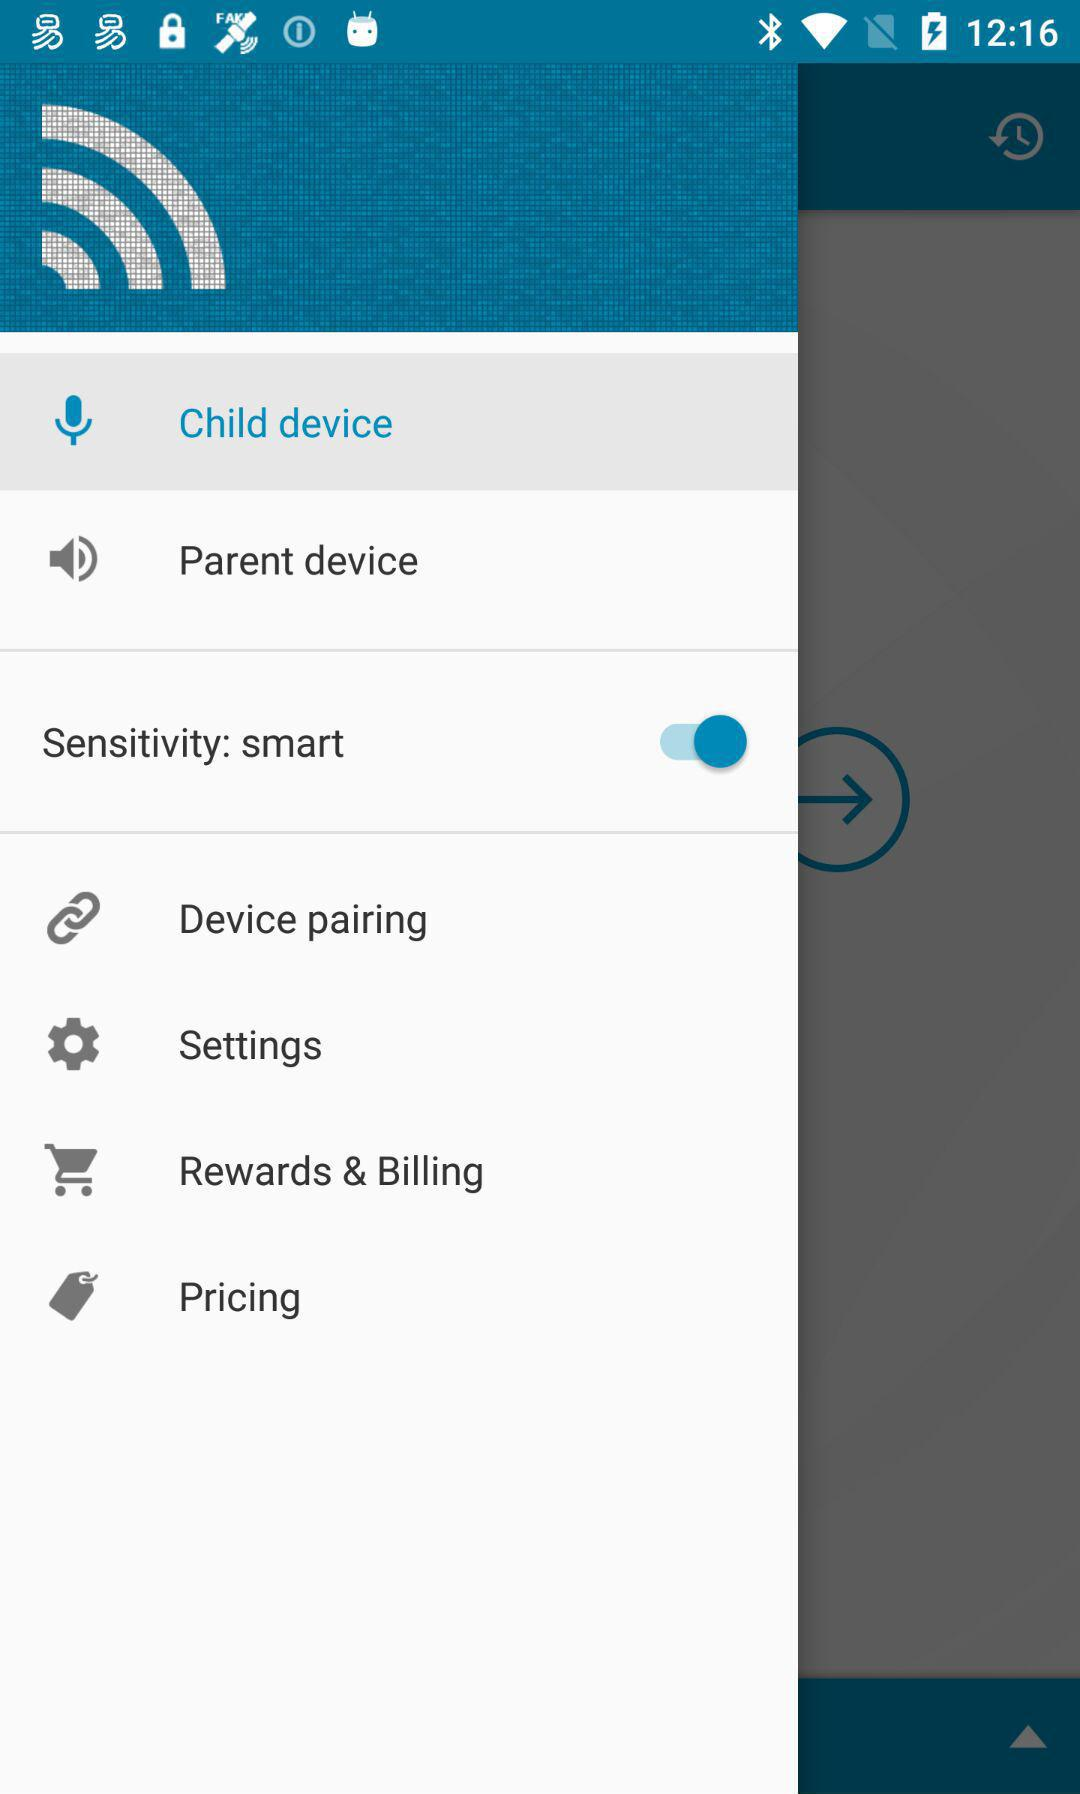Drawer: (1, 65, 798, 1794)
Icon: (44, 1143, 100, 1198), (47, 1017, 102, 1073), (49, 1269, 100, 1322), (54, 393, 95, 448)
Image: (42, 103, 227, 290), (46, 891, 102, 947), (50, 536, 100, 584)
Switch: (659, 714, 749, 770)
Text: (179, 1153, 484, 1196), (44, 727, 346, 768), (179, 903, 428, 943), (179, 545, 420, 578), (181, 406, 395, 440), (179, 1028, 323, 1069), (179, 1280, 302, 1321)
UpperTaskBar: (1, 1, 1080, 64)
